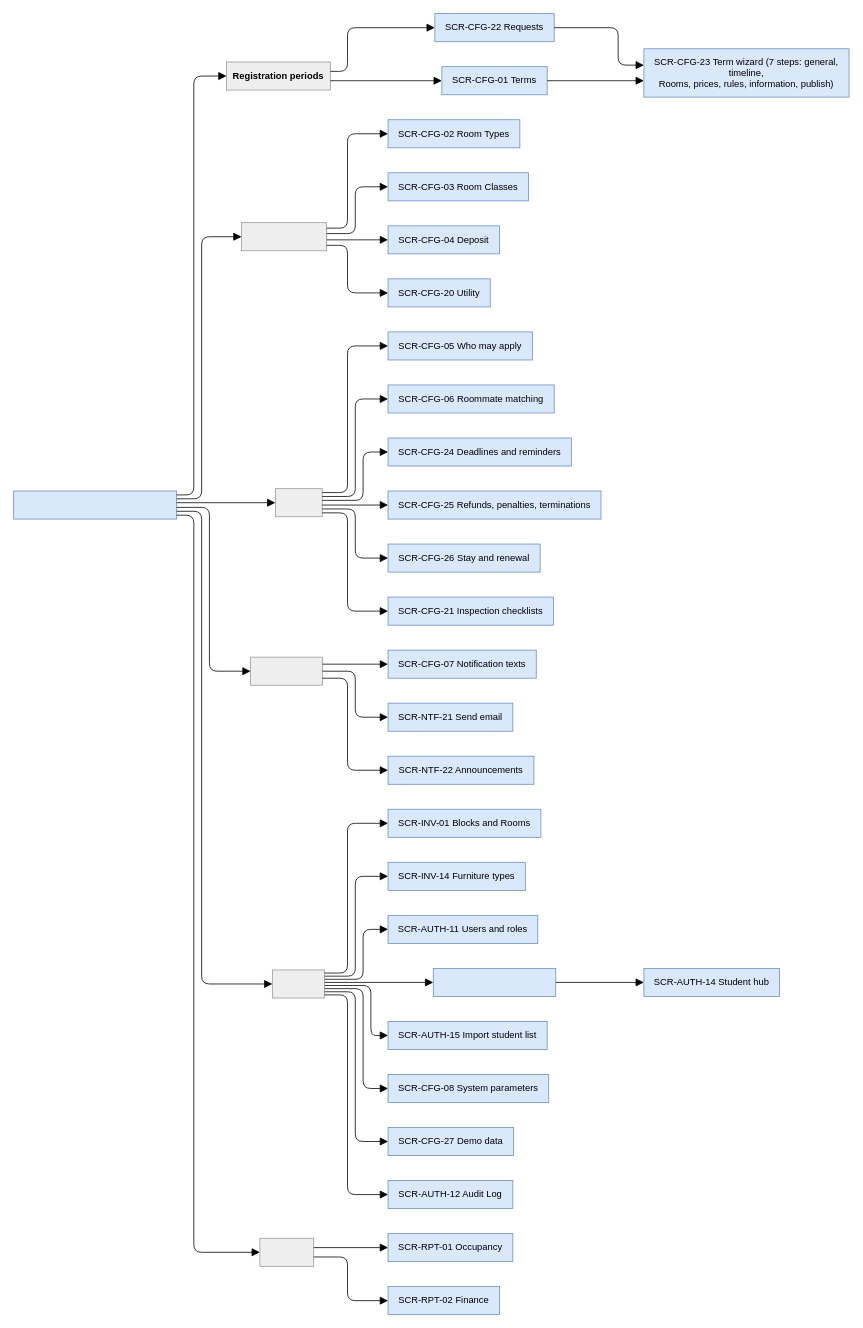
This 863x1328 diagram has some shape labels left out. The shapes that lost their labels are listed below. From the top down, each one's centre as x and y in pixels, then its label:
the point at 284,236: Prices and fees
the point at 95,504: SCR-HOME-04 Admin Dashboard
the point at 298,502: Rules
the point at 286,670: Notifications
the point at 298,983: System
the point at 494,982: SCR-AUTH-13 Students
the point at 286,1251: Reports
